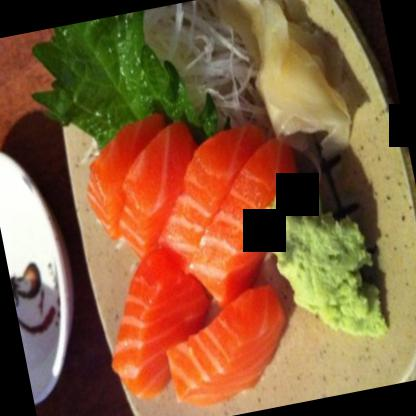salmon: (79, 97, 324, 415)
